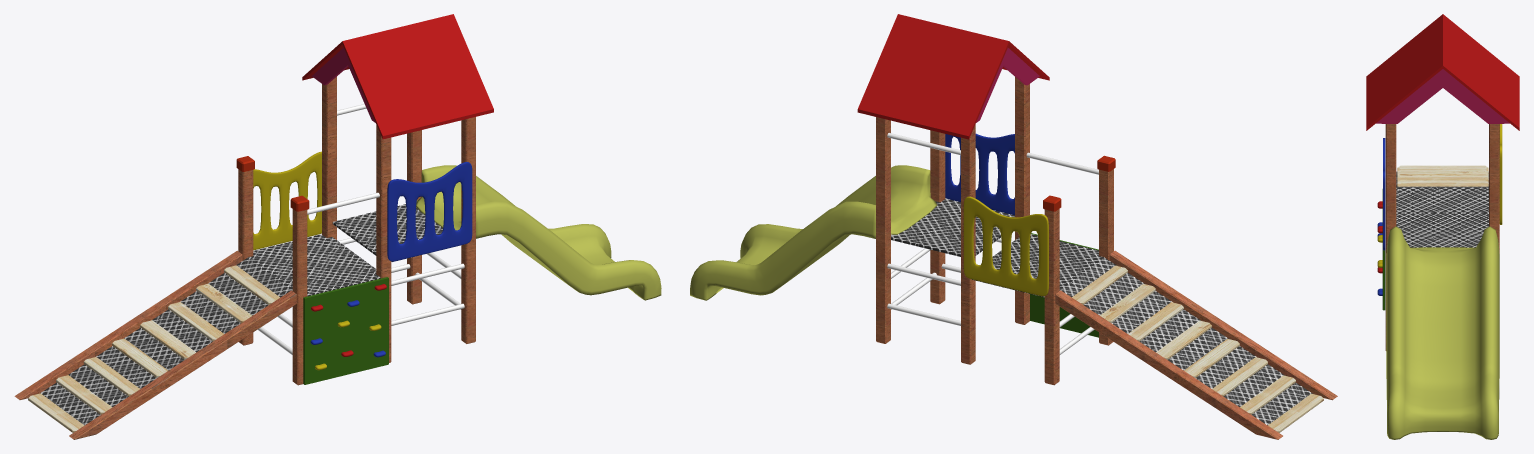
Rendered from parque.obj.
3 renders of one model, left to right at view 1: azimuth 30°, elevation 25°; view 2: azimuth 150°, elevation 25°; view 3: azimuth 270°, elevation 25°, orthographic. The views are drawn at different scales.
Parts seen in each view (by area): view 1: parkfloor_Cube.001, roof_Cube.033, slide_Cube.032, greenwall_Cube.018, plasticdoor_Cube.019, column_Cube.014, column2_Cube.016, side1_Cube.004, plasticdoor2_Cube.020, side2_Cube.005, lit_column_Cube.003, lit_column2_Cube.002 (+9 smaller); view 2: parkfloor_Cube.001, roof_Cube.033, slide_Cube.032, plasticdoor2_Cube.020, column_Cube.014, column2_Cube.016, side2_Cube.005, side1_Cube.004, plasticdoor_Cube.019, lit_column2_Cube.002, lit_column_Cube.003, greenwall_Cube.018 (+9 smaller); view 3: slide_Cube.032, roof_Cube.033, parkfloor_Cube.001, column2_Cube.016, connectroof_Cube.017, step8_Cube, plasticdoor2_Cube.020, plasticdoor_Cube.019, greenwall_Cube.018, step8.007_Cube.013, step8.005_Cube.011, step8.006_Cube.012 (+4 smaller).
Boxes of the visible parts, x1,y1,x2,y2 form: parkfloor_Cube.001: (40, 204, 453, 425); roof_Cube.033: (302, 14, 493, 139); slide_Cube.032: (416, 165, 661, 300); greenwall_Cube.018: (303, 277, 388, 384); plasticdoor_Cube.019: (387, 161, 472, 261); column_Cube.014: (322, 76, 391, 362); column2_Cube.016: (407, 117, 475, 343); side1_Cube.004: (69, 290, 296, 439); plasticdoor2_Cube.020: (253, 151, 321, 250); side2_Cube.005: (14, 250, 242, 399); lit_column_Cube.003: (290, 195, 309, 385); lit_column2_Cube.002: (236, 156, 254, 345); parkfloor_Cube.001: (891, 198, 1312, 425); roof_Cube.033: (857, 14, 1049, 139); slide_Cube.032: (690, 165, 937, 300); plasticdoor2_Cube.020: (963, 196, 1048, 296); column_Cube.014: (961, 77, 1029, 364); column2_Cube.016: (876, 117, 945, 343); side2_Cube.005: (1055, 290, 1282, 439); side1_Cube.004: (1109, 250, 1337, 400); plasticdoor_Cube.019: (945, 133, 1014, 215); lit_column2_Cube.002: (1043, 195, 1061, 385); lit_column_Cube.003: (1097, 155, 1115, 345); greenwall_Cube.018: (1030, 233, 1098, 337); slide_Cube.032: (1386, 226, 1499, 439); roof_Cube.033: (1366, 14, 1519, 130); parkfloor_Cube.001: (1396, 171, 1488, 247); column2_Cube.016: (1385, 124, 1499, 350); connectroof_Cube.017: (1376, 69, 1509, 123); step8_Cube: (1397, 180, 1488, 186); plasticdoor2_Cube.020: (1499, 124, 1502, 224); plasticdoor_Cube.019: (1383, 138, 1385, 250); greenwall_Cube.018: (1382, 189, 1385, 310); step8.007_Cube.013: (1397, 165, 1488, 169); step8.005_Cube.011: (1397, 169, 1488, 173); step8.006_Cube.012: (1397, 167, 1488, 171).
Bounding box in the file's own units: 602 × 296 × 142.
